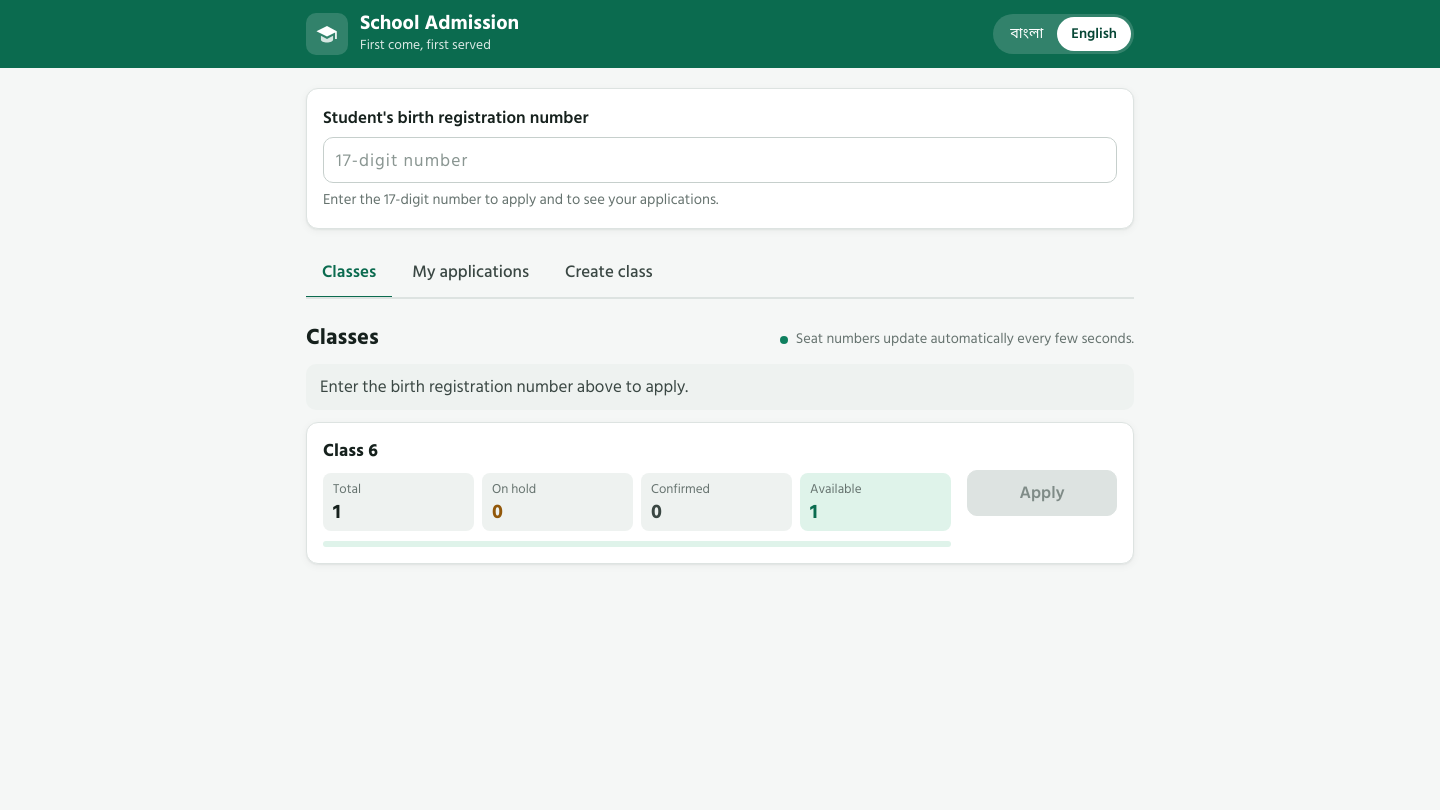
Test case: applying and paying › explains in plain words when the last seat was taken by someone else first
Type "20152691234567890" into the field labelled "Student's birth registration number". click: [720, 160]
box: [323,137,1117,183]
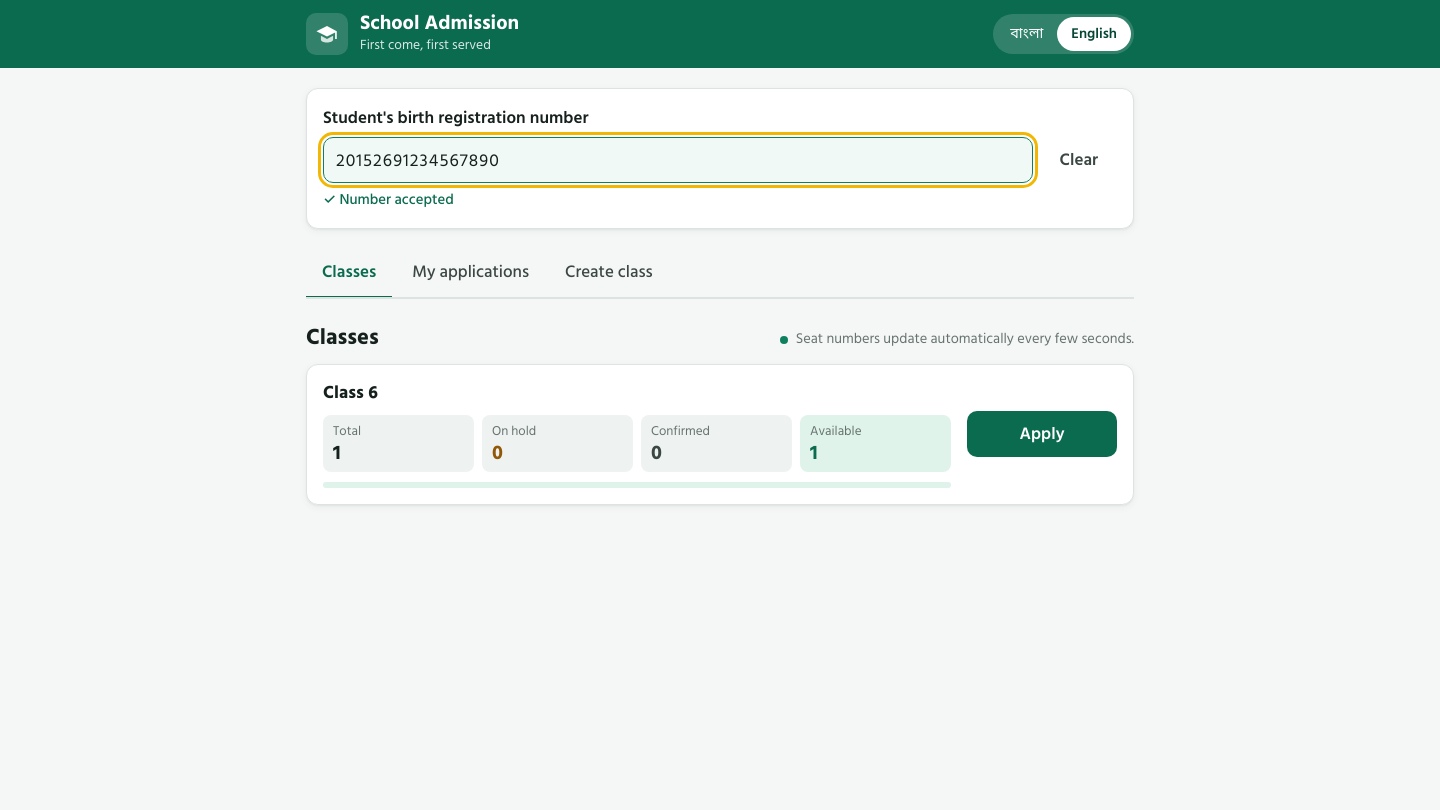
Click the button "Apply". click: [1042, 434]
box: [967,411,1117,457]
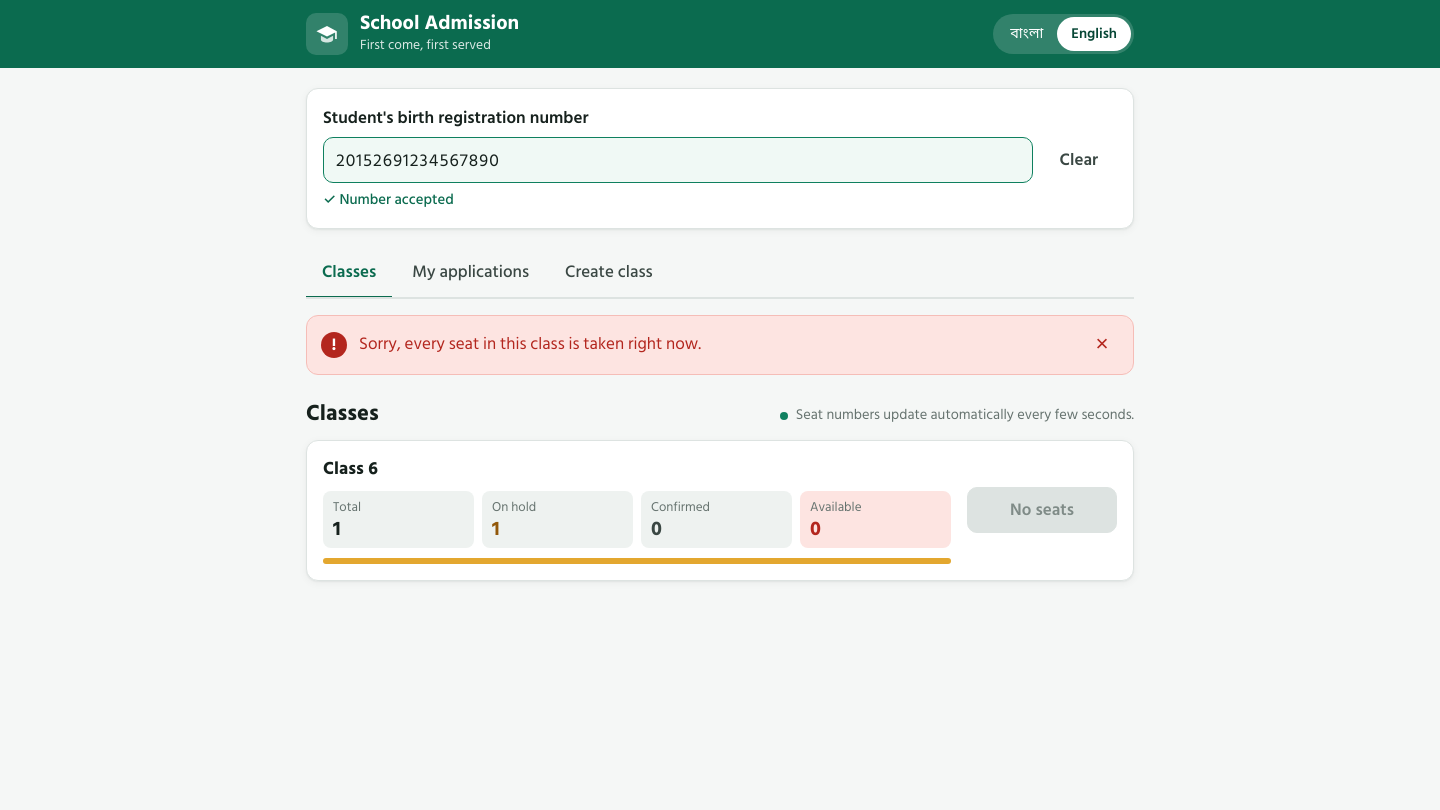
Expected: the message shows "Sorry, every seat in this class is taken right now.", [359,330,701,358]
Expected: the button "No seats" is disabled, [967,487,1117,533]
